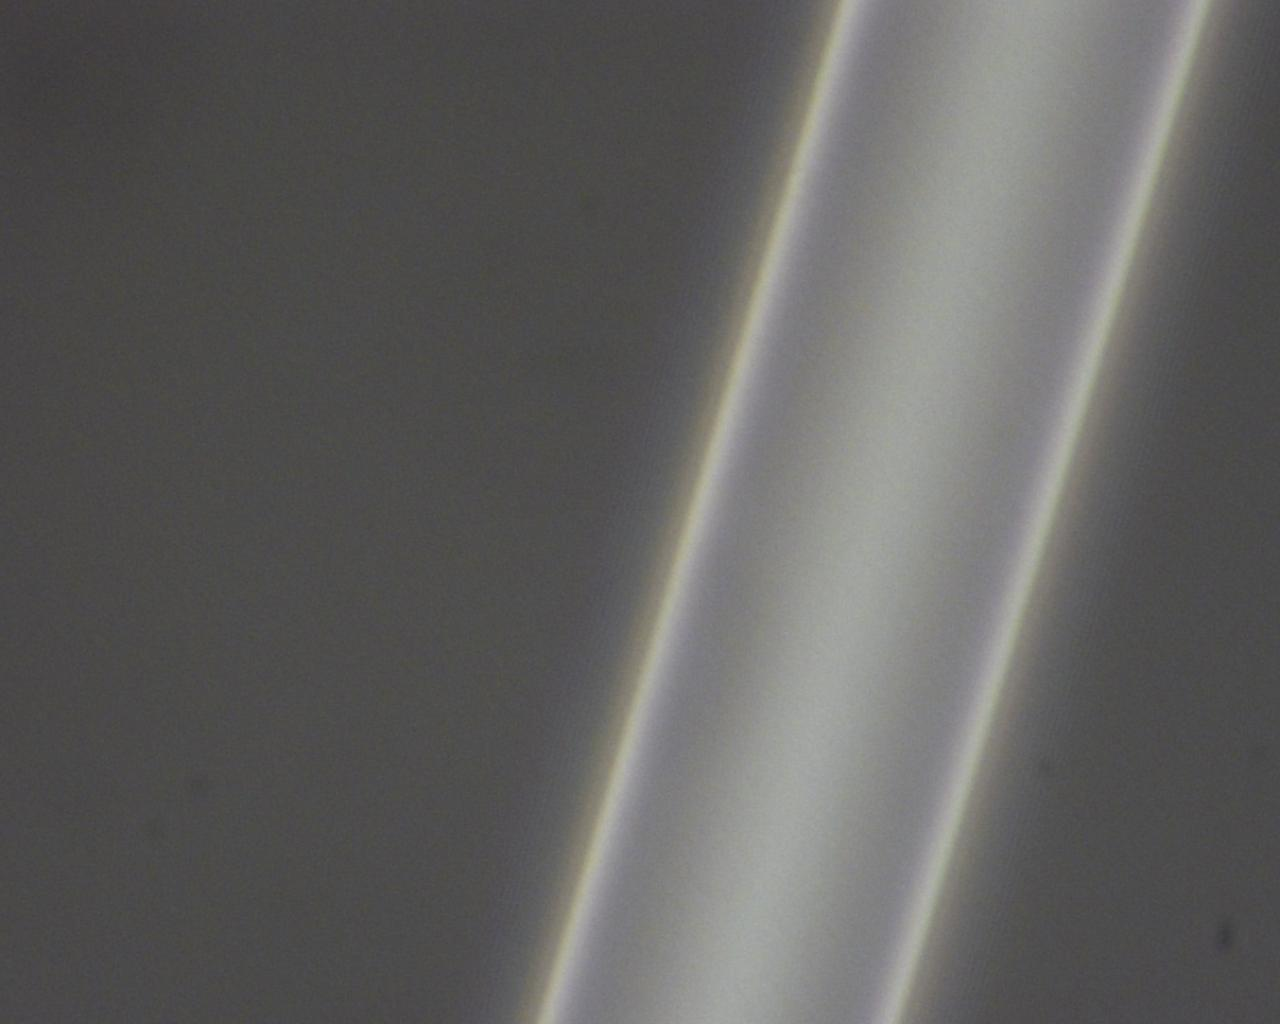fiber: (448, 0, 1280, 165), (232, 399, 448, 1024), (763, 776, 1280, 1024), (0, 71, 448, 286)
